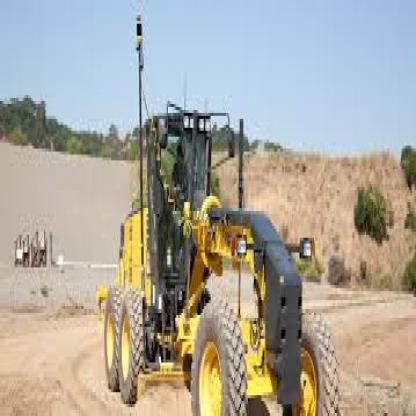bull_dozer/loader/grader: (66, 30, 349, 413)
